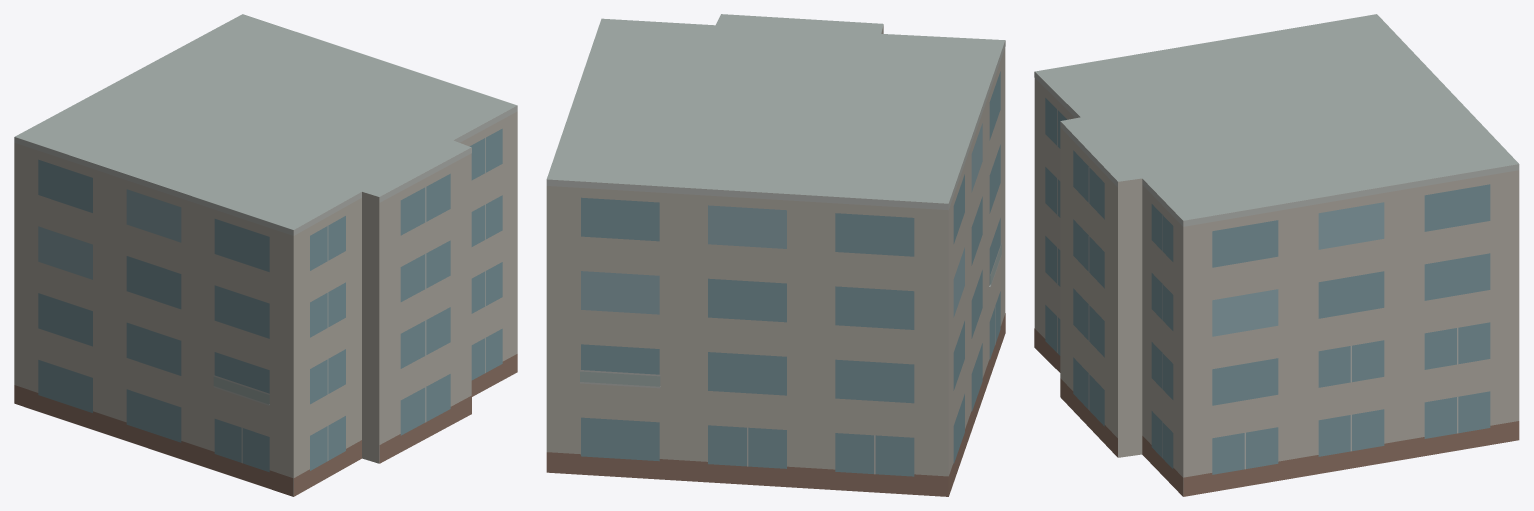
File: survey-upis-32860463.glb
3 views of the same model, side by side, from view 1: azimuth 30°, elevation 25°; view 2: azimuth 150°, elevation 25°; view 3: azimuth 270°, elevation 25° (orthographic). The views are drawn at different scales.
Parts seen in each view (by area): view 1: survey-upis-32860463.tmp; view 2: survey-upis-32860463.tmp; view 3: survey-upis-32860463.tmp.
Boxes of the visible parts, left/top/right/bottom form: survey-upis-32860463.tmp: left=14, top=14, right=517, bottom=496; survey-upis-32860463.tmp: left=546, top=14, right=1005, bottom=496; survey-upis-32860463.tmp: left=1034, top=14, right=1519, bottom=496.
Bounding box in the file's own units: 17.84 × 11.1 × 17.68.
